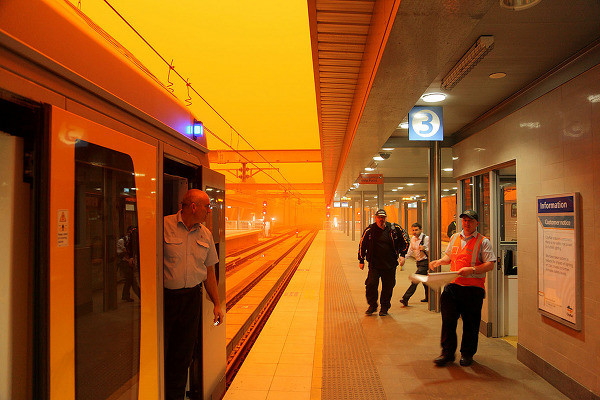person: (162, 188, 221, 393), (437, 210, 494, 370), (358, 208, 404, 317), (403, 221, 429, 306)
